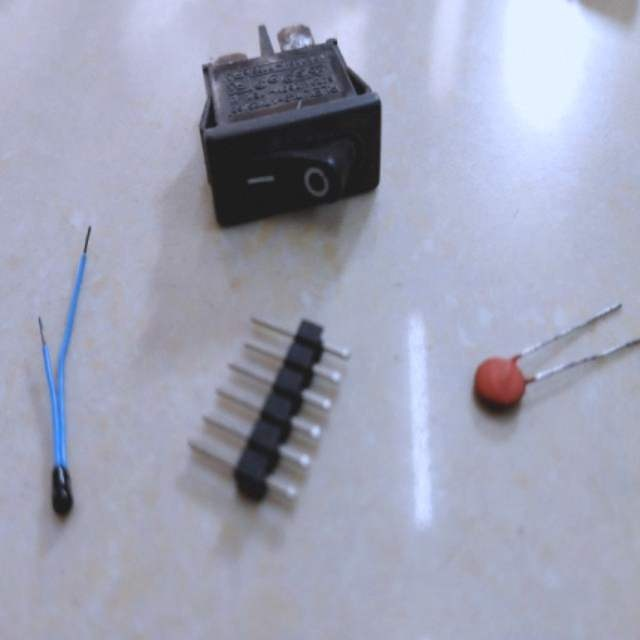capacitor: (473, 357, 527, 416)
